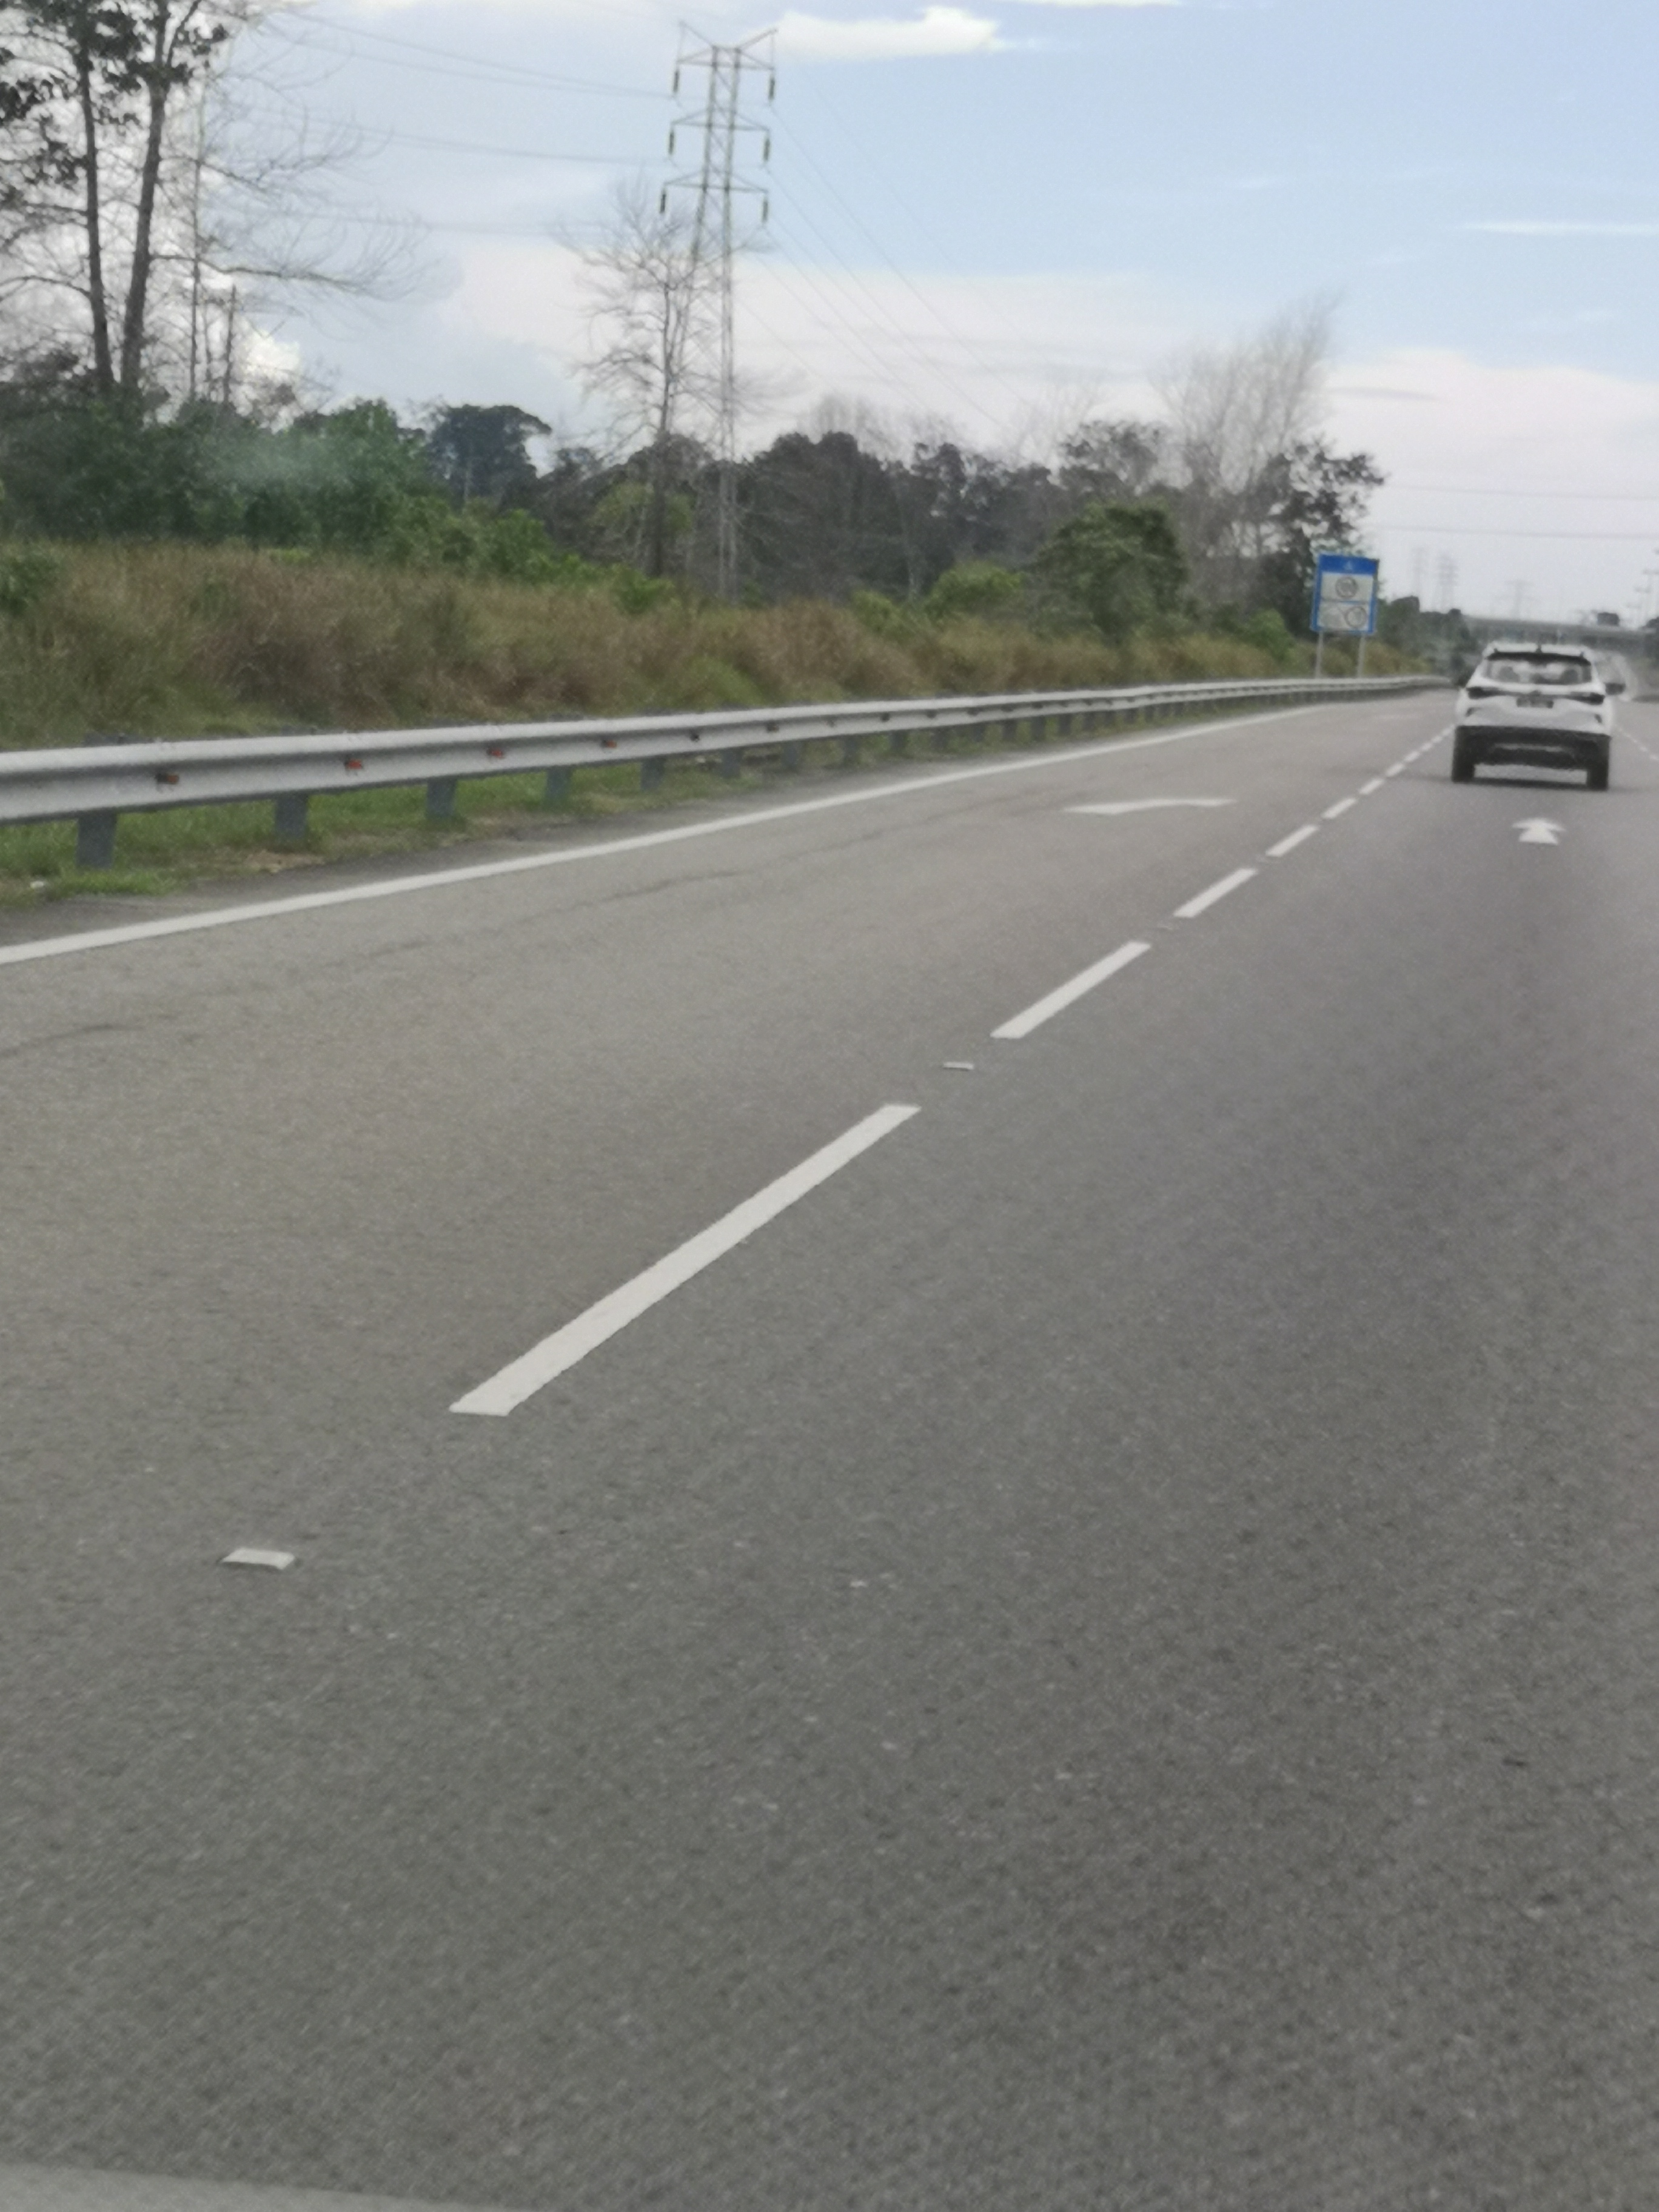bad weather: (1317, 597, 1342, 631)
speed limit 100: (1330, 575, 1363, 601)
speed limit 70: (1345, 604, 1370, 637)
